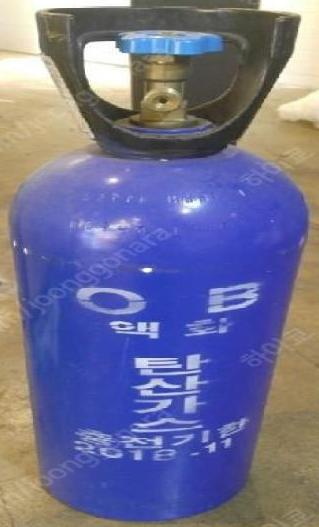cylinder: (1, 1, 319, 527)
